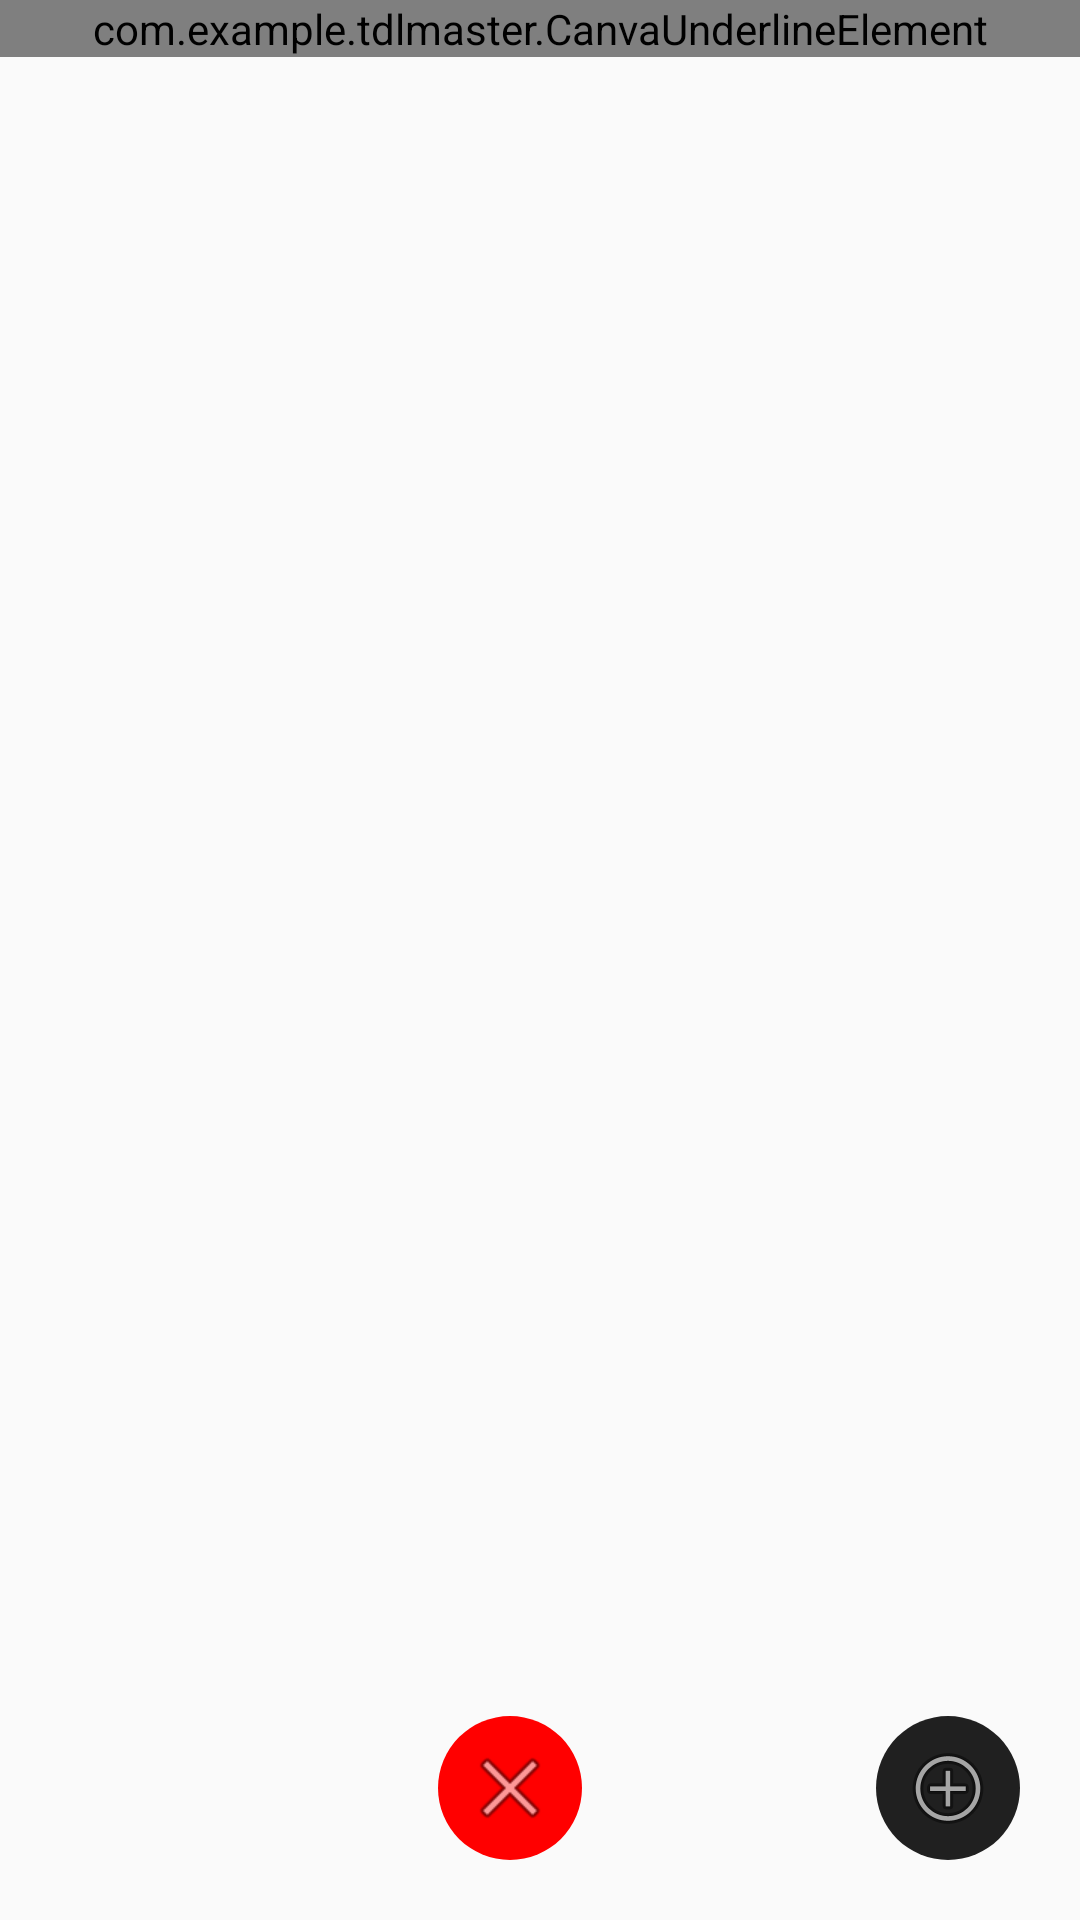

Screen size 1080×1920. Icon name, then its center in pixels as [x,y]:
add: [948,1788]
close clear cancel: [510,1788]
